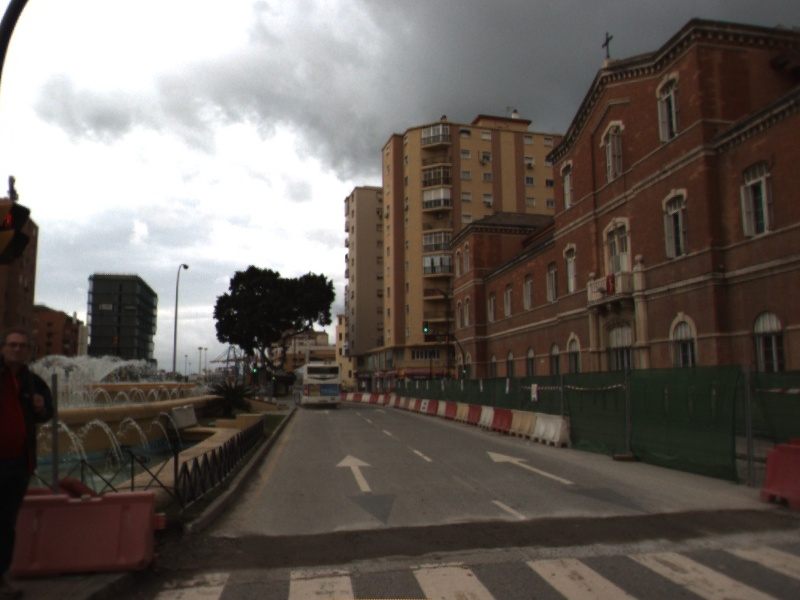STRAIGHT: (486, 450, 578, 486), (333, 452, 375, 493)
